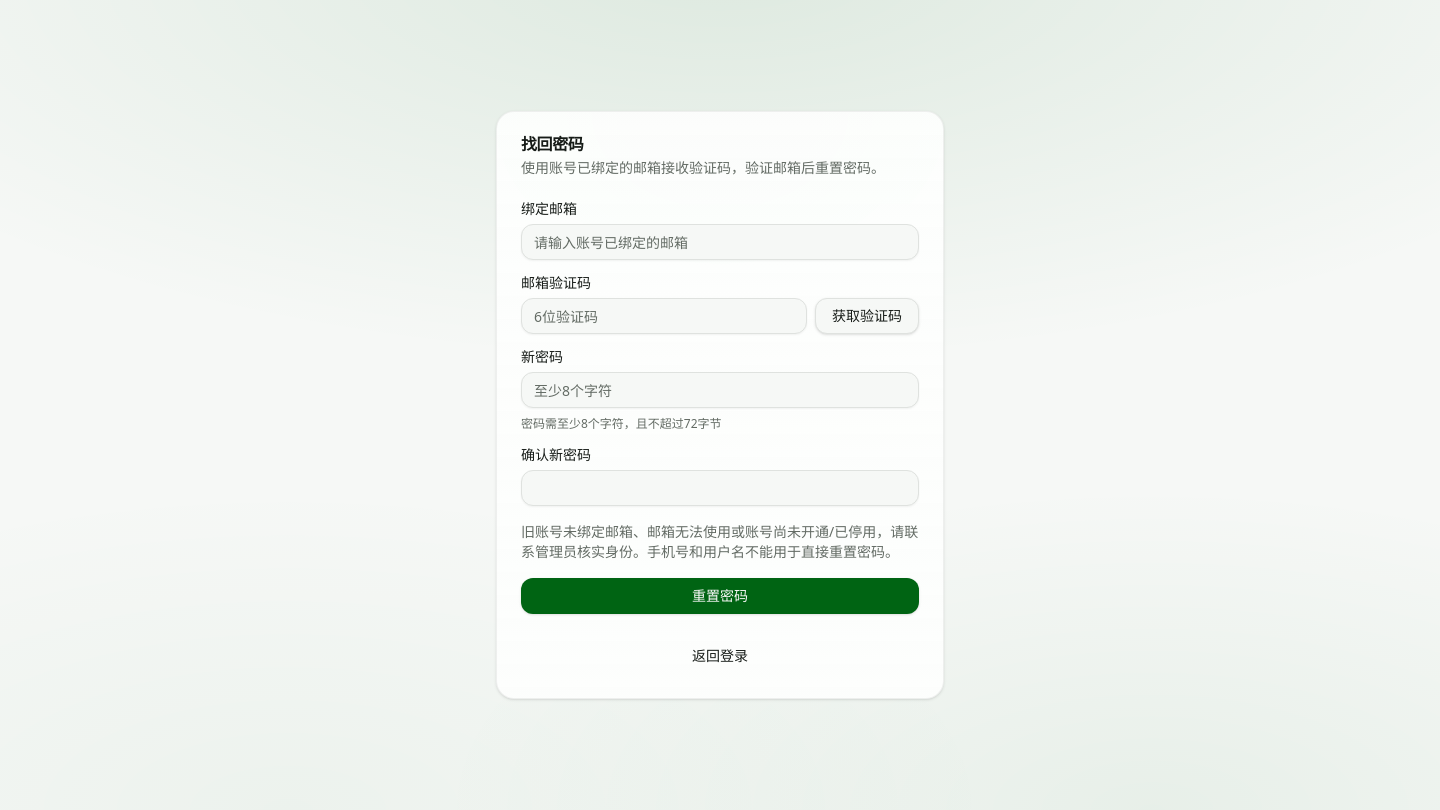
Test: email password recovery › shows invalid-code failures and allows correction without success
Type "RECOVERY@EXAMPLE.COM" into the field labelled "绑定邮箱".
click(720, 242); type("RECOVERY@EXAMPLE.COM")  # box left=521, top=224, right=919, bottom=260
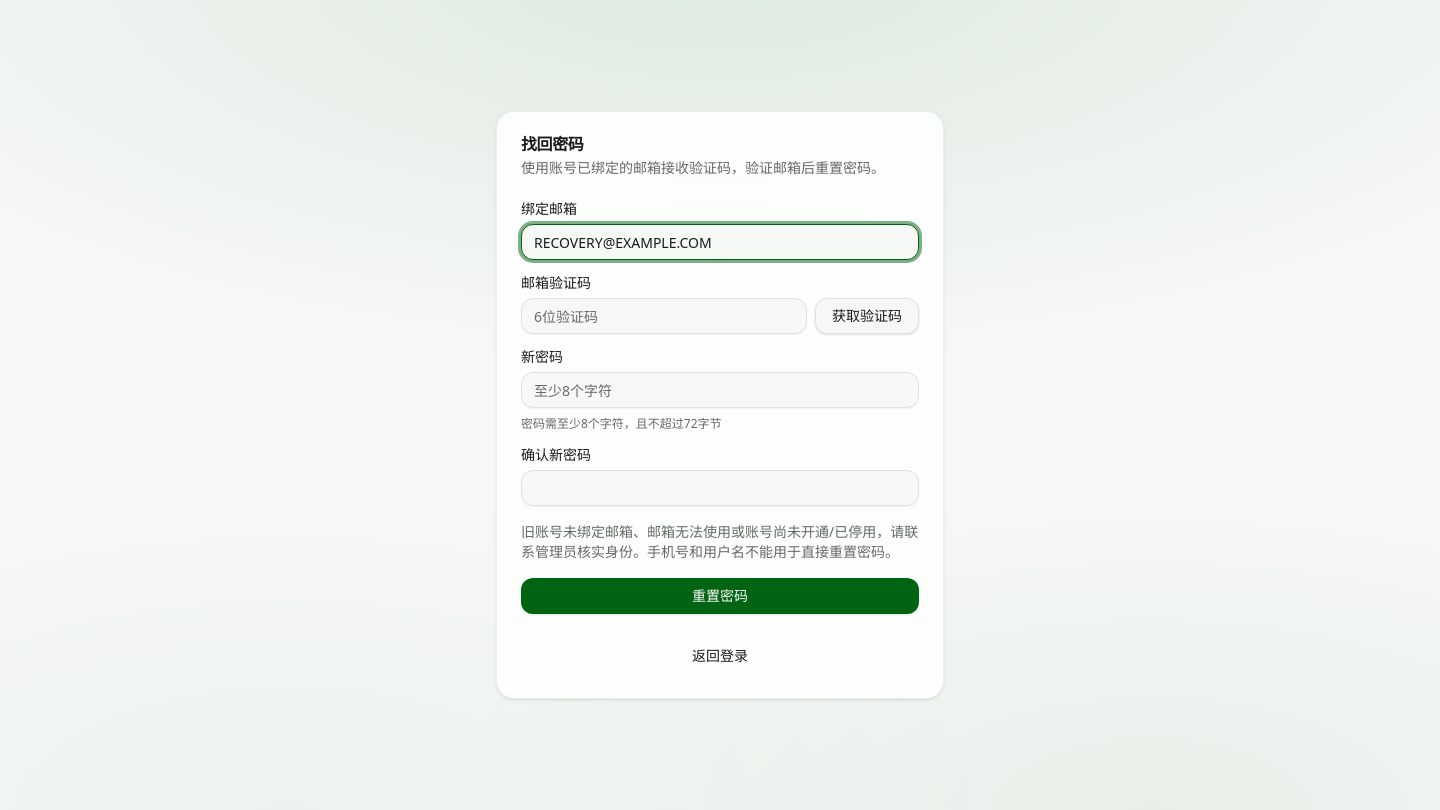
Type "123456" into the field labelled "邮箱验证码".
click(664, 316); type("123456")  # box left=521, top=298, right=807, bottom=334
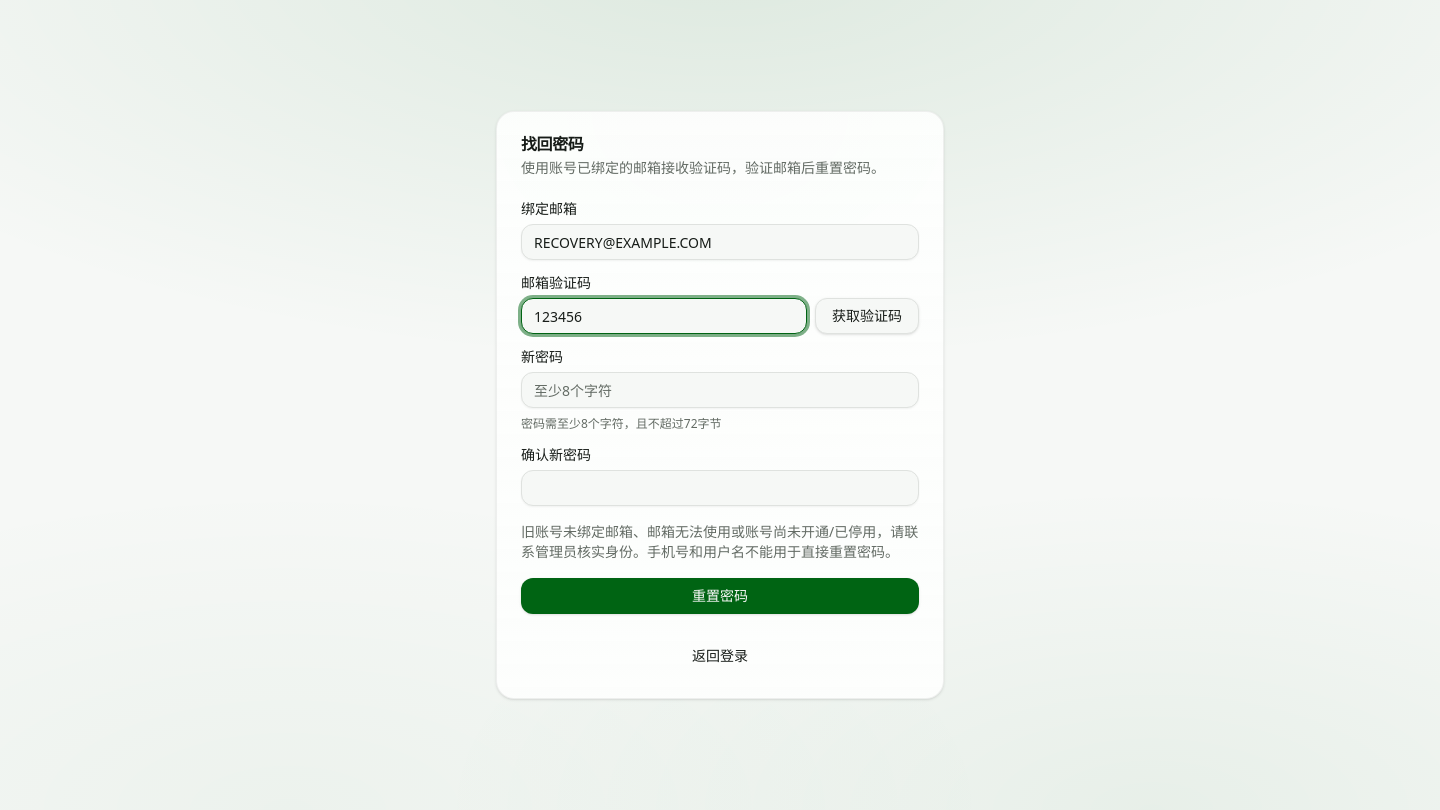
Type "test-only-new-password" into the password field labelled "新密码".
click(720, 390); type("test-only-new-password")  # box left=521, top=372, right=919, bottom=408
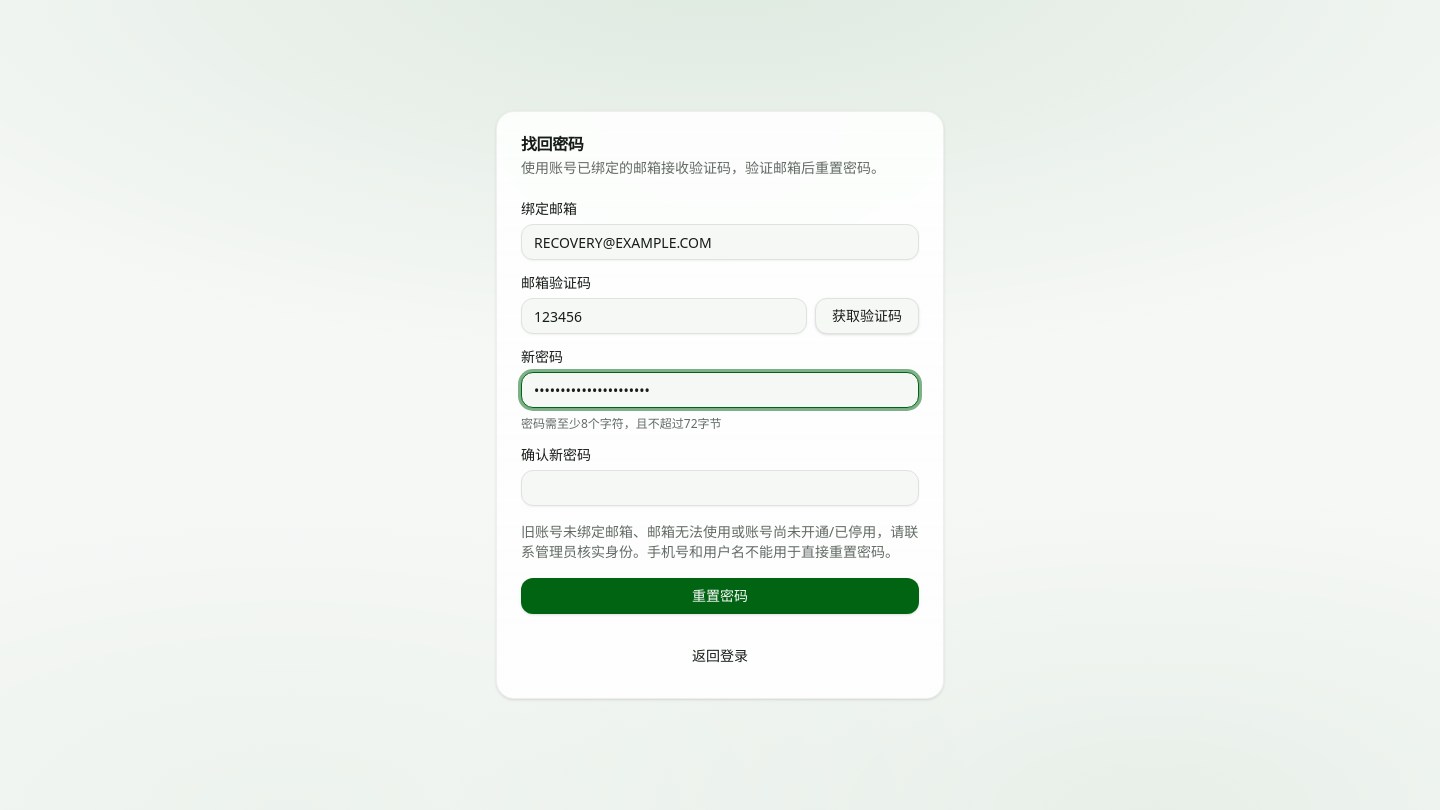
Type "test-only-new-password" into the password field labelled "确认新密码".
click(720, 488); type("test-only-new-password")  # box left=521, top=470, right=919, bottom=506
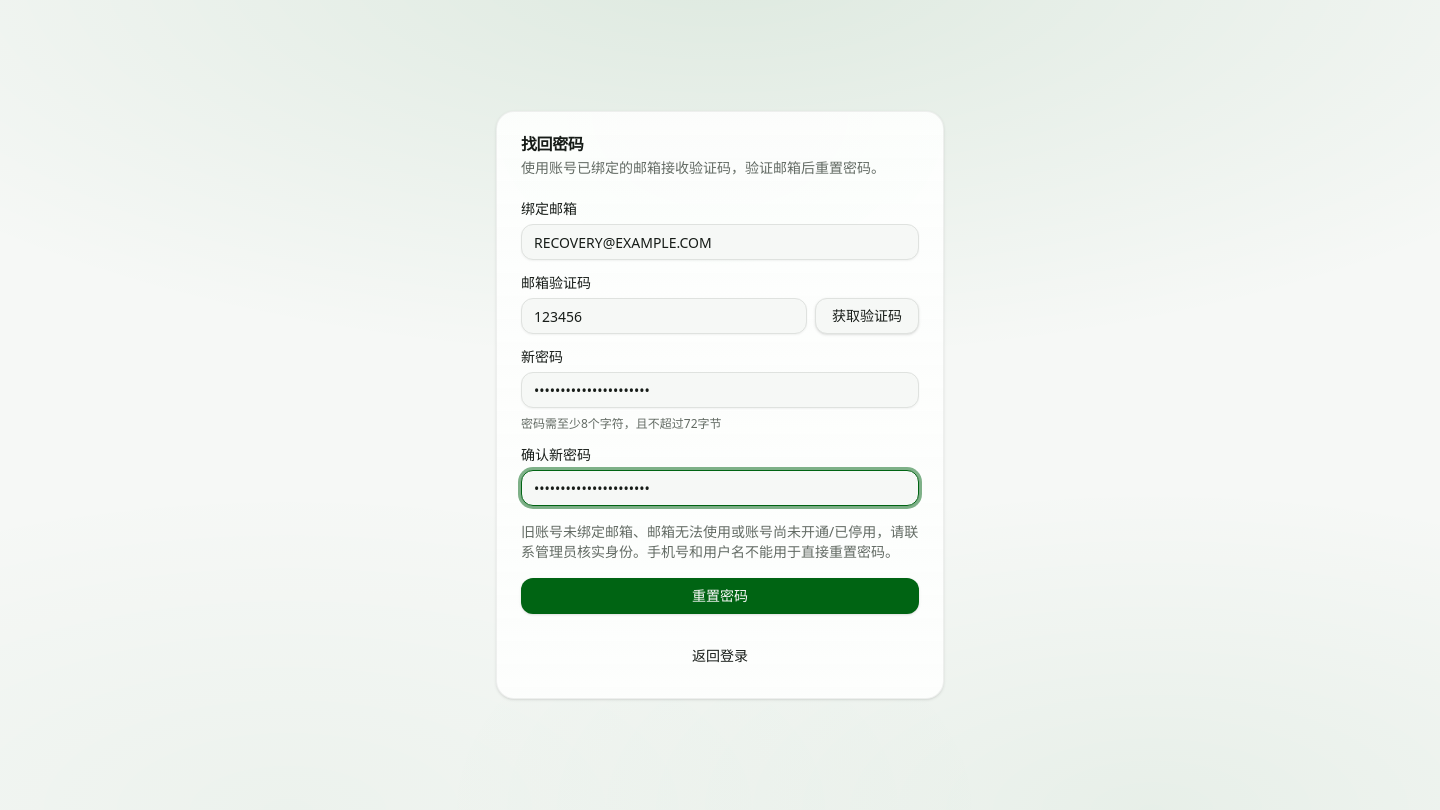
Click the button "重置密码".
click(720, 596)  # box left=521, top=578, right=919, bottom=614
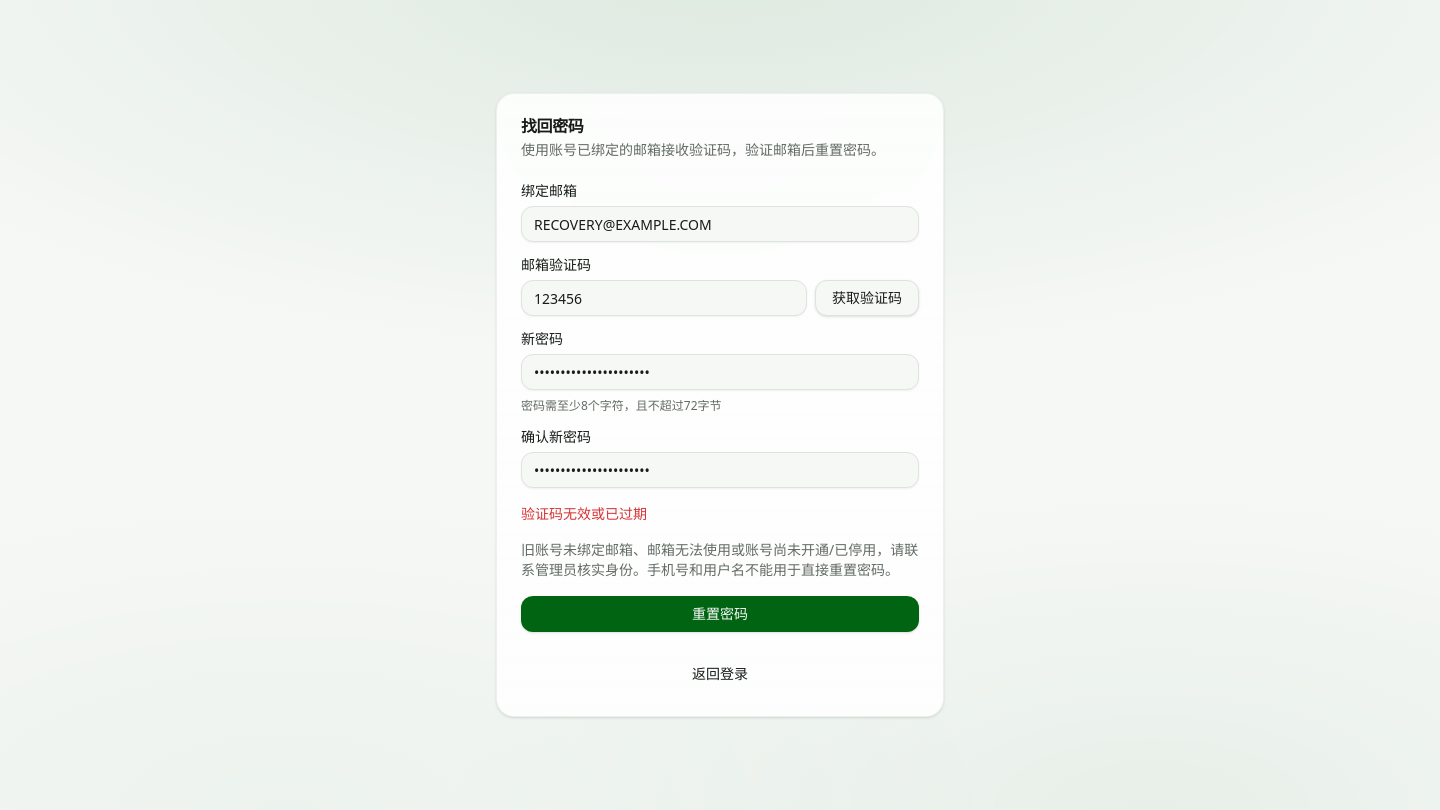
Check: the message reads "验证码无效或已过期", box left=521, top=504, right=647, bottom=523
